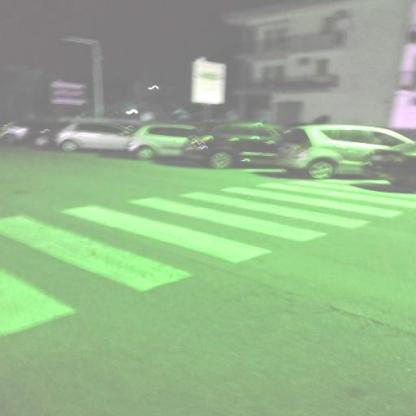crosswalk: (53, 194, 330, 268)
